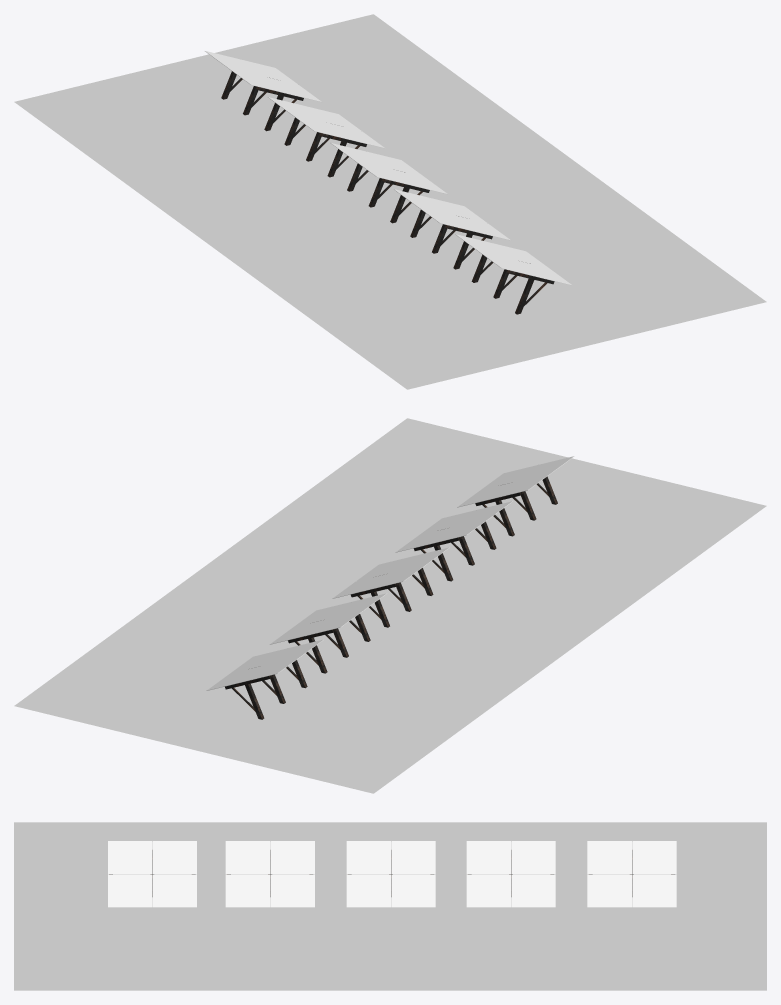
Rendered from uploads_files_3250618_solar+pan.glb.
3 renders of one model, top to bottom at view 1: azimuth 30°, elevation 25°; view 2: azimuth 150°, elevation 25°; view 3: azimuth 270°, elevation 25°, orthographic. The views are drawn at different scales.
Visible parts, largest first — view 1: Plane.021, pipe supports, pipe supports.004, pipe supports.002, pipe supports.003, pipe supports.001; view 2: Plane.021, pipe supports.004, pipe supports.003, pipe supports.001, pipe supports, pipe supports.002; view 3: Plane.021, Plane.008, Plane.012, Plane.016, Plane.017, Plane.020, Plane.001, Plane.004, Plane.005, Plane.009, Plane.013, Plane.002 (+9 smaller).
Boxes of the visible parts, x1,y1,x2,y2 form: Plane.021: (14, 14, 766, 389); pipe supports: (471, 254, 554, 314); pipe supports.004: (221, 71, 303, 131); pipe supports.002: (347, 163, 429, 223); pipe supports.003: (284, 117, 366, 177); pipe supports.001: (410, 210, 492, 269); Plane.021: (14, 418, 766, 793); pipe supports.004: (225, 660, 307, 719); pipe supports.003: (288, 614, 370, 673); pipe supports.001: (413, 521, 496, 581); pipe supports: (475, 476, 557, 536); pipe supports.002: (351, 568, 433, 627); Plane.021: (14, 822, 766, 990); Plane.008: (270, 874, 314, 907); Plane.012: (391, 874, 435, 907); Plane.016: (511, 874, 555, 907); Plane.017: (587, 874, 631, 907); Plane.020: (632, 874, 676, 907); Plane.001: (108, 874, 152, 907); Plane.004: (152, 874, 196, 907); Plane.005: (225, 874, 269, 907); Plane.009: (346, 874, 390, 907); Plane.013: (466, 874, 510, 907); Plane.002: (108, 841, 152, 873).
Bounding box in the file's own units: 16.55 × 2.25 × 31.35.
3 materials, 1 textured.
